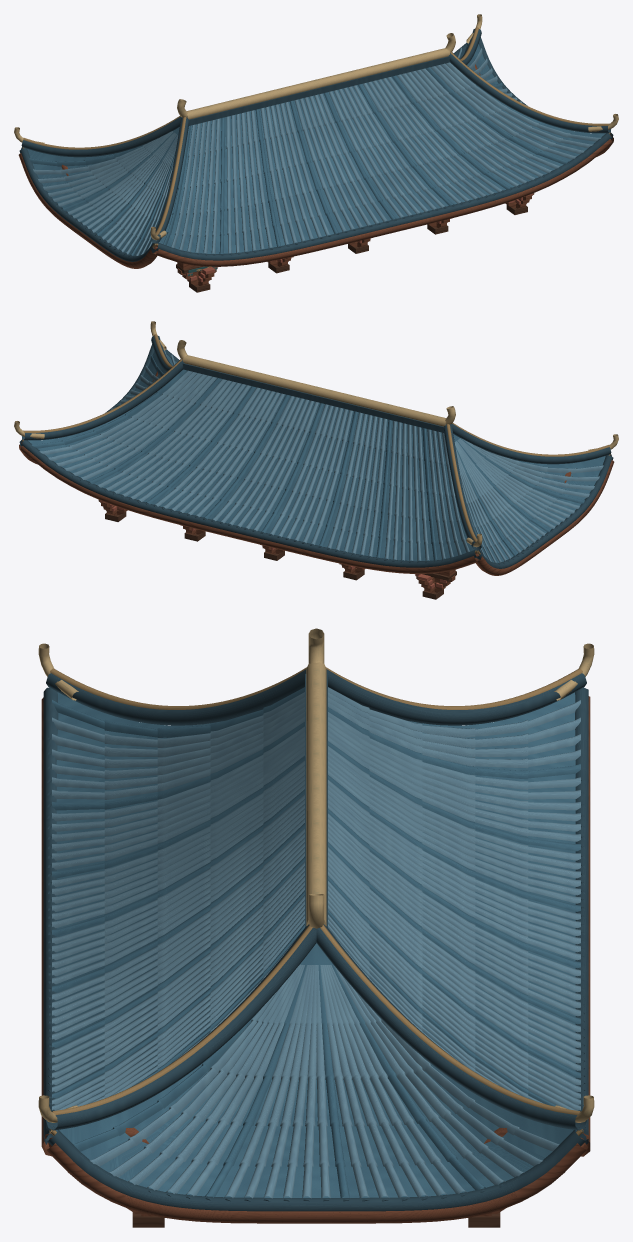
3 views of the same model, one above another, from view 1: azimuth 30°, elevation 25°; view 2: azimuth 150°, elevation 25°; view 3: azimuth 270°, elevation 25° (orthographic). The views are drawn at different scales.
Parts seen in each view (by area): view 1: OpenRoofShell_tileRound, OpenRoofShell_glaze, OpenRoofShell_shadowTile, OpenRoofShell_heartwood, OpenRoofShell_gold, OpenRoofShell_bronze, MountingBattens_heartwood, MountingBattens_walnut; view 2: OpenRoofShell_tileRound, OpenRoofShell_glaze, OpenRoofShell_shadowTile, OpenRoofShell_heartwood, OpenRoofShell_gold, OpenRoofShell_bronze, MountingBattens_heartwood, MountingBattens_walnut; view 3: OpenRoofShell_tileRound, OpenRoofShell_glaze, OpenRoofShell_shadowTile, OpenRoofShell_heartwood, OpenRoofShell_gold, OpenRoofShell_bronze, MountingBattens_walnut.
Boxes of the visible parts, left/top/right/bottom form: OpenRoofShell_tileRound: left=33, top=48, right=601, bottom=256; OpenRoofShell_glaze: left=27, top=43, right=605, bottom=256; OpenRoofShell_shadowTile: left=19, top=29, right=613, bottom=261; OpenRoofShell_heartwood: left=18, top=64, right=613, bottom=268; OpenRoofShell_gold: left=14, top=14, right=618, bottom=240; OpenRoofShell_bronze: left=22, top=27, right=610, bottom=248; MountingBattens_heartwood: left=177, top=193, right=534, bottom=285; MountingBattens_walnut: left=176, top=205, right=527, bottom=292; OpenRoofShell_tileRound: left=39, top=350, right=603, bottom=563; OpenRoofShell_glaze: left=28, top=351, right=605, bottom=563; OpenRoofShell_shadowTile: left=19, top=336, right=613, bottom=568; OpenRoofShell_heartwood: left=19, top=369, right=614, bottom=575; OpenRoofShell_gold: left=14, top=321, right=618, bottom=547; OpenRoofShell_bronze: left=22, top=334, right=610, bottom=554; MountingBattens_heartwood: left=98, top=500, right=455, bottom=592; MountingBattens_walnut: left=105, top=512, right=456, bottom=599; OpenRoofShell_tileRound: left=47, top=687, right=580, bottom=1198; OpenRoofShell_glaze: left=52, top=687, right=580, bottom=1197; OpenRoofShell_shadowTile: left=43, top=669, right=588, bottom=1211; OpenRoofShell_heartwood: left=41, top=696, right=590, bottom=1223; OpenRoofShell_gold: left=38, top=628, right=594, bottom=1122; OpenRoofShell_bronze: left=49, top=667, right=583, bottom=1135; MountingBattens_walnut: left=132, top=1212, right=500, bottom=1227.
Bounding box in the file's own units: 11.13 × 3.46 × 5.73.
Materials: 9 (9 with a texture image).
